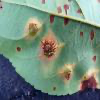Apple rust leaf: (0, 0, 99, 96)
